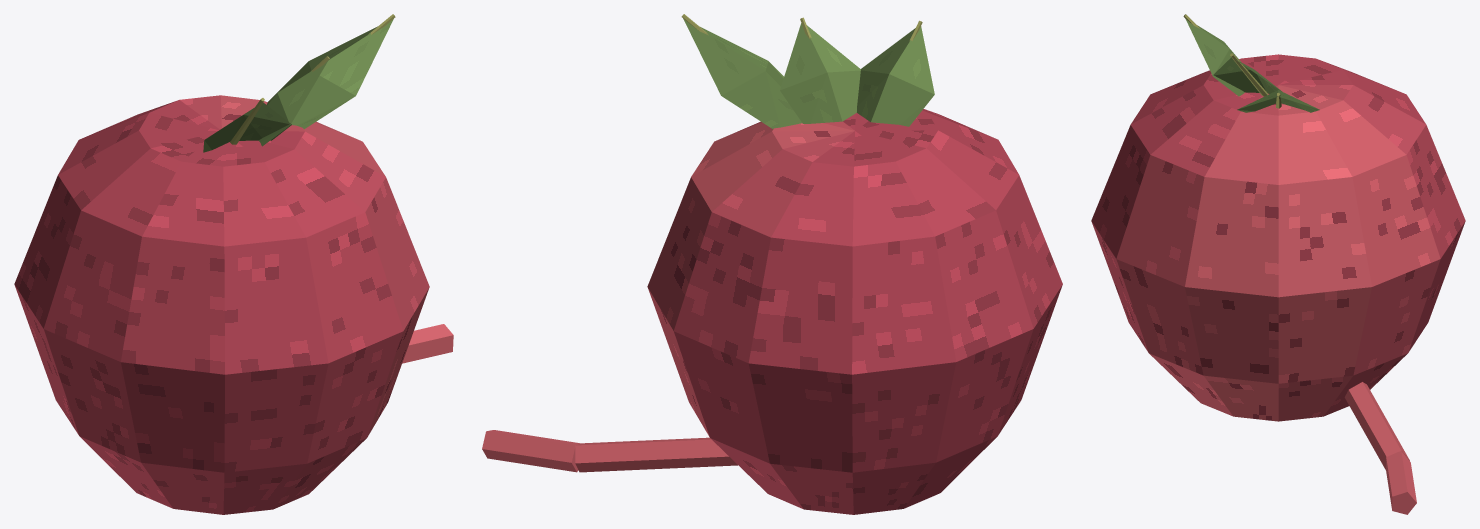
The model's file is radish_taproot.glb.
The picture shows the model from 3 angles, left to right: view 1: azimuth 30°, elevation 25°; view 2: azimuth 150°, elevation 25°; view 3: azimuth 270°, elevation 25°; orthographic projection. The views are drawn at different scales.
Visible parts, largest first — view 1: block_round taproot, block_radish or beet greens tip (×2), block_radish or beet greens blade (×3), block_slender trailing root 1; view 2: block_round taproot, block_radish or beet greens blade (×5), block_radish or beet greens tip (×5), block_slender trailing root 0, block_slender trailing root 1; view 3: block_round taproot, block_slender trailing root 0, block_slender trailing root 1, block_radish or beet greens tip, block_radish or beet greens blade.
Boxes of the visible parts, x1,y1,x2,y2 form: block_round taproot: [14, 95, 429, 514]; block_radish or beet greens tip (×2): [277, 19, 393, 125]; block_radish or beet greens blade (×3): [203, 75, 355, 152]; block_slender trailing root 1: [402, 324, 453, 363]; block_round taproot: [647, 109, 1062, 514]; block_radish or beet greens blade (×5): [721, 70, 934, 128]; block_radish or beet greens tip (×5): [683, 18, 934, 95]; block_slender trailing root 0: [575, 437, 737, 472]; block_slender trailing root 1: [482, 430, 579, 472]; block_round taproot: [1091, 54, 1465, 421]; block_slender trailing root 0: [1344, 382, 1409, 469]; block_slender trailing root 1: [1386, 451, 1416, 514]; block_radish or beet greens tip: [1185, 19, 1229, 76]; block_radish or beet greens blade: [1214, 70, 1265, 92].
Bounding box in the file's own units: 0.1568 × 0.1327 × 0.1218.
Materials: 2 (2 with a texture image).
